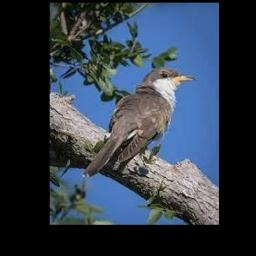Cuckoo: (81, 68, 194, 177)
